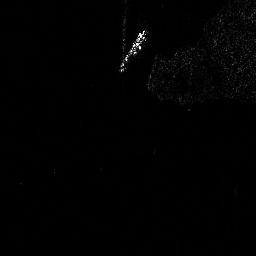ship: (119, 28, 147, 72)
